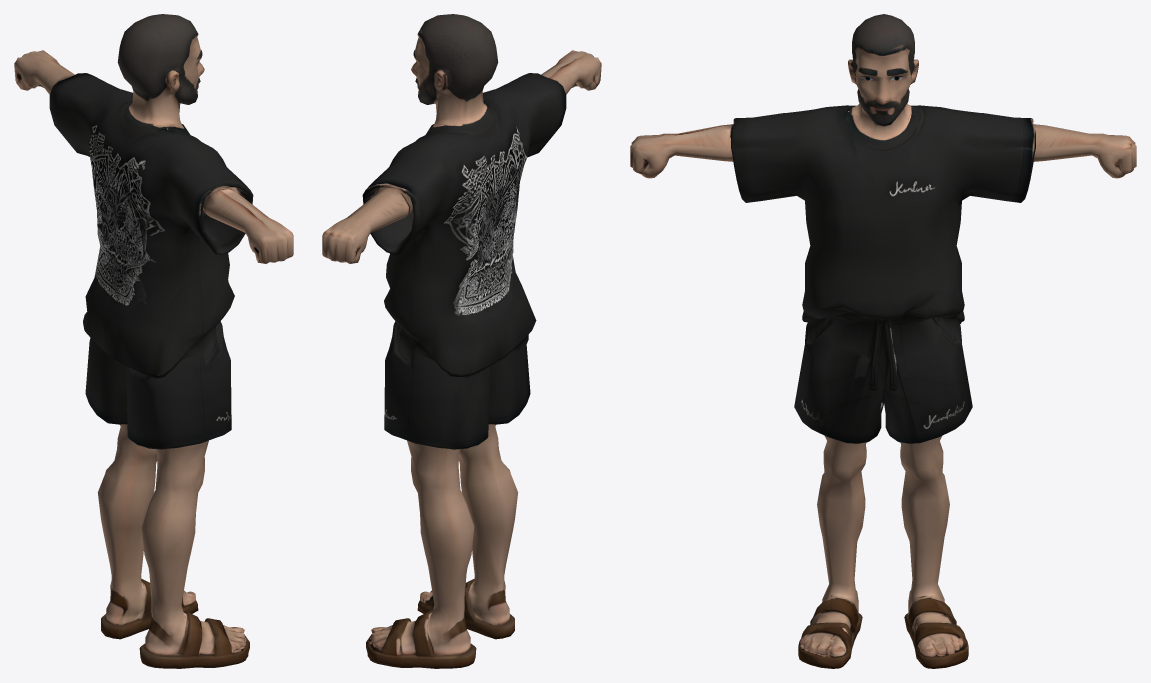
The model's file is char_doryseus_konfuse_smart_5000.glb.
3 renders of one model, left to right at view 1: azimuth 30°, elevation 25°; view 2: azimuth 150°, elevation 25°; view 3: azimuth 270°, elevation 25°, orthographic.
Visible parts, largest first — view 1: tripo_node_3cc7f5de-65e5-4745-a76e-8a2fda644269; view 2: tripo_node_3cc7f5de-65e5-4745-a76e-8a2fda644269; view 3: tripo_node_3cc7f5de-65e5-4745-a76e-8a2fda644269.
Boxes of the visible parts, bbox=[...] form: tripo_node_3cc7f5de-65e5-4745-a76e-8a2fda644269: bbox=[14, 14, 293, 668]; tripo_node_3cc7f5de-65e5-4745-a76e-8a2fda644269: bbox=[322, 14, 601, 668]; tripo_node_3cc7f5de-65e5-4745-a76e-8a2fda644269: bbox=[630, 14, 1136, 668].
Bounding box in the file's own units: 0.3382 × 1.8 × 1.33.
1 material, 1 textured.
